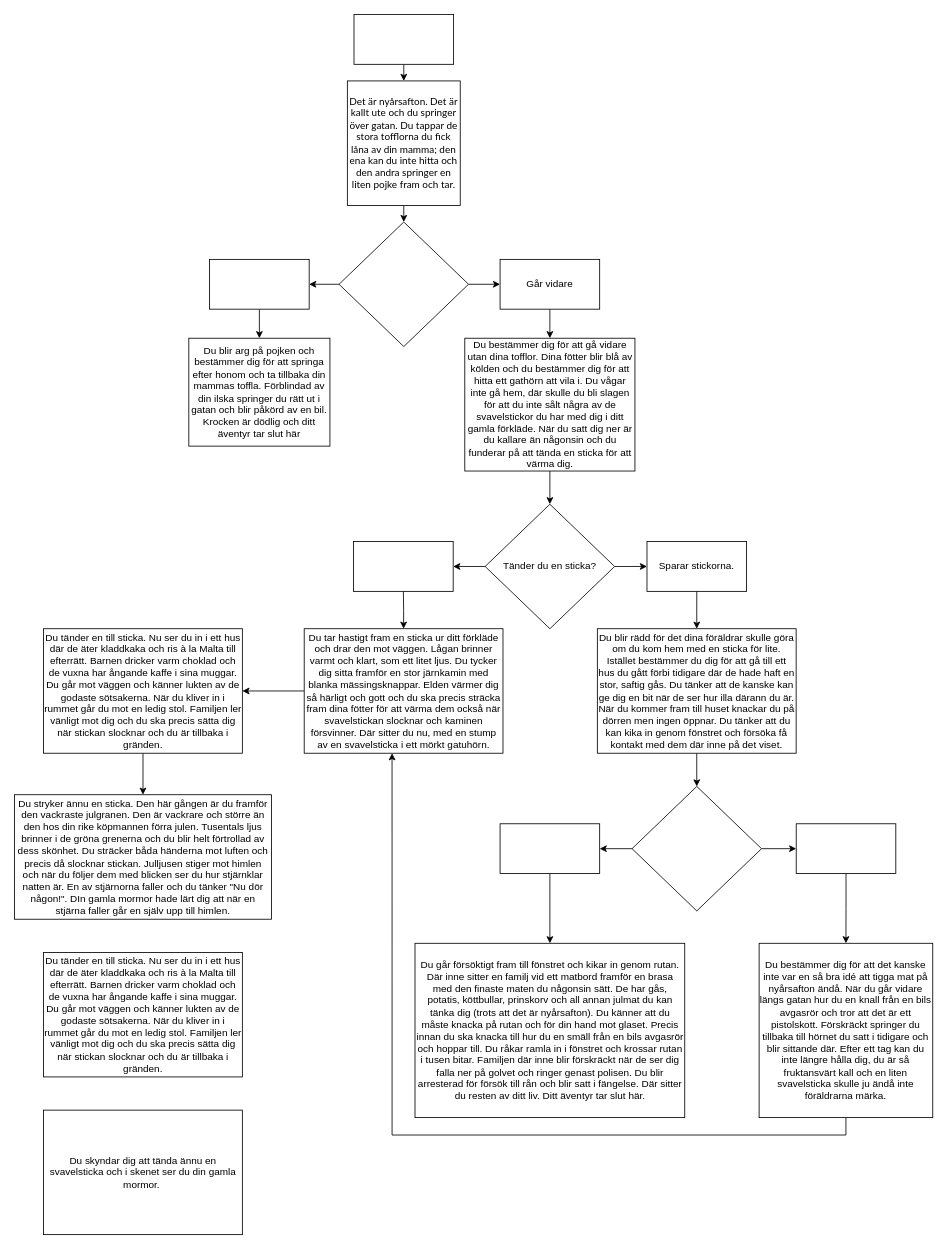
The diagram is 948 pixels wide and 1249 high, and some of its shapes have lost their labels. Here are the shapes that lost their labels. From the top down, the centre of each, then its label:
At (403,39): "Flickan med svavelstickorna".
At (259,284): "Springer efter pojken".
At (403,284): "Springer du efter pojken eller går du vidare?".
At (403,566): "Tänder en sticka".
At (549,848): "Knackar på fönstret.".
At (696,848): "Knackar du på fönstret?".
At (845,848): "Går vidare.".
